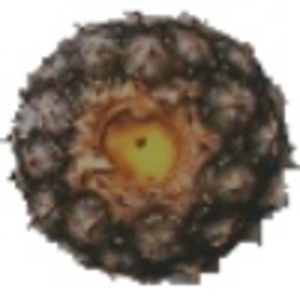abacaxi: (10, 9, 286, 278)
